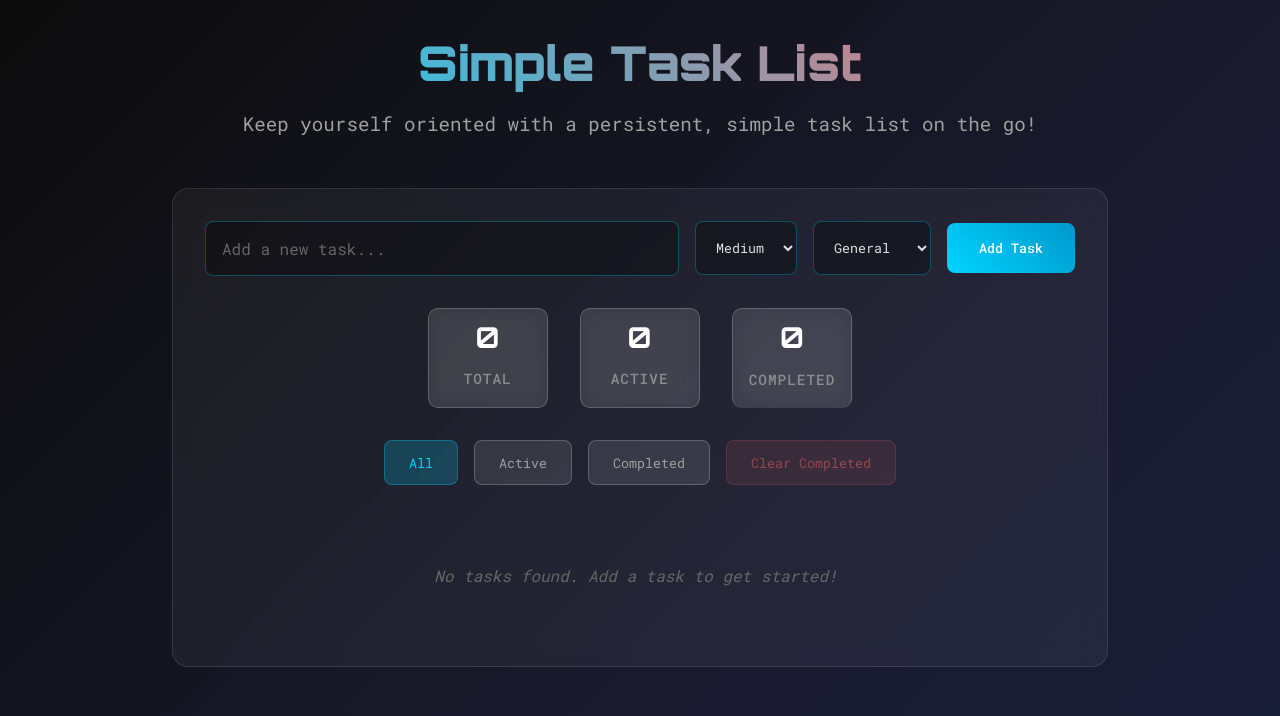
TaskList › Task Filtering › shows all tasks by default
The width and height of the screenshot is (1280, 716).
Type "Completed task" into the field with placeholder "Add a new task...". click: (442, 248)
box: [205,221,679,276]
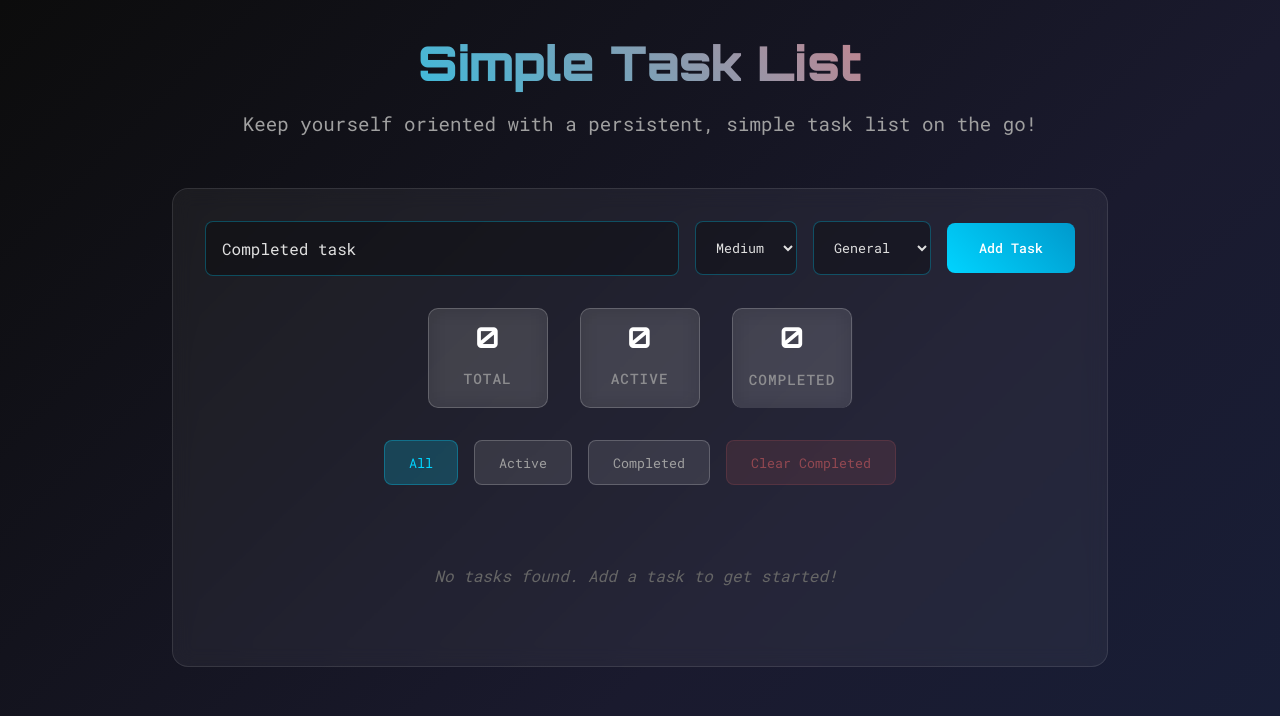
Click the button "Add Task". click: (1011, 248)
box: [947,223,1075,273]
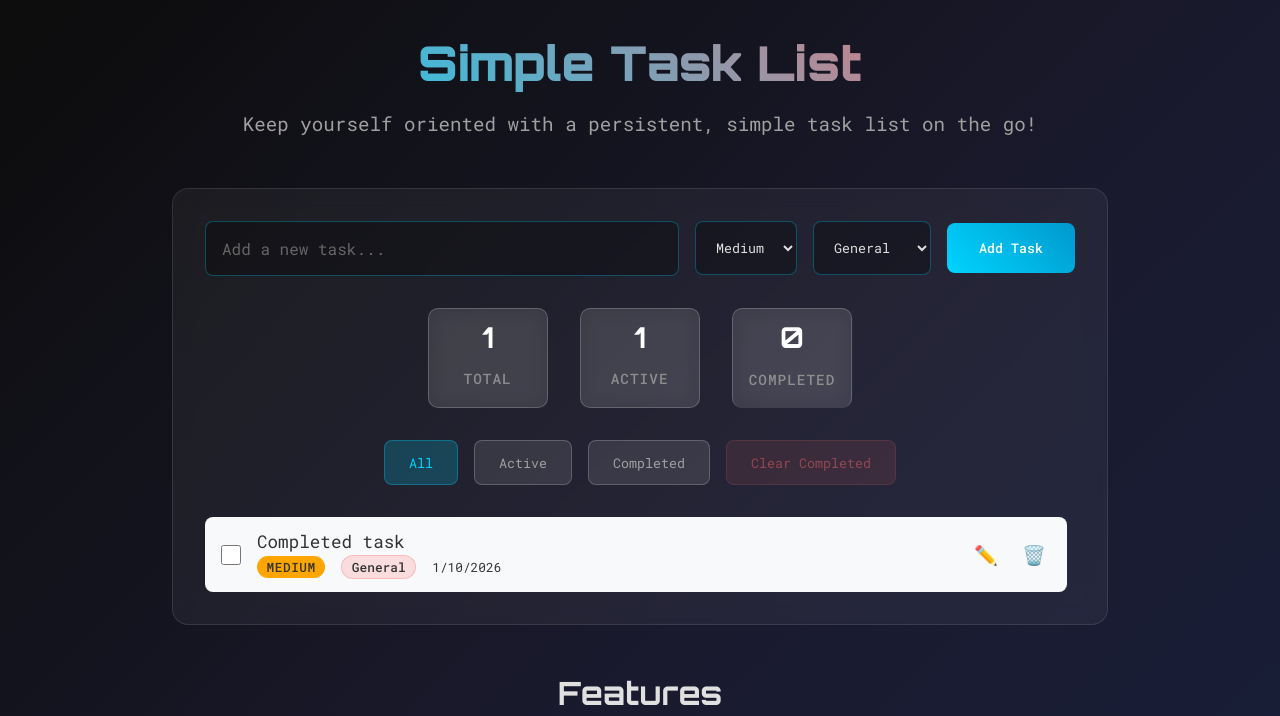
Click the checkbox. click: (231, 555)
box: [221,545,241,565]
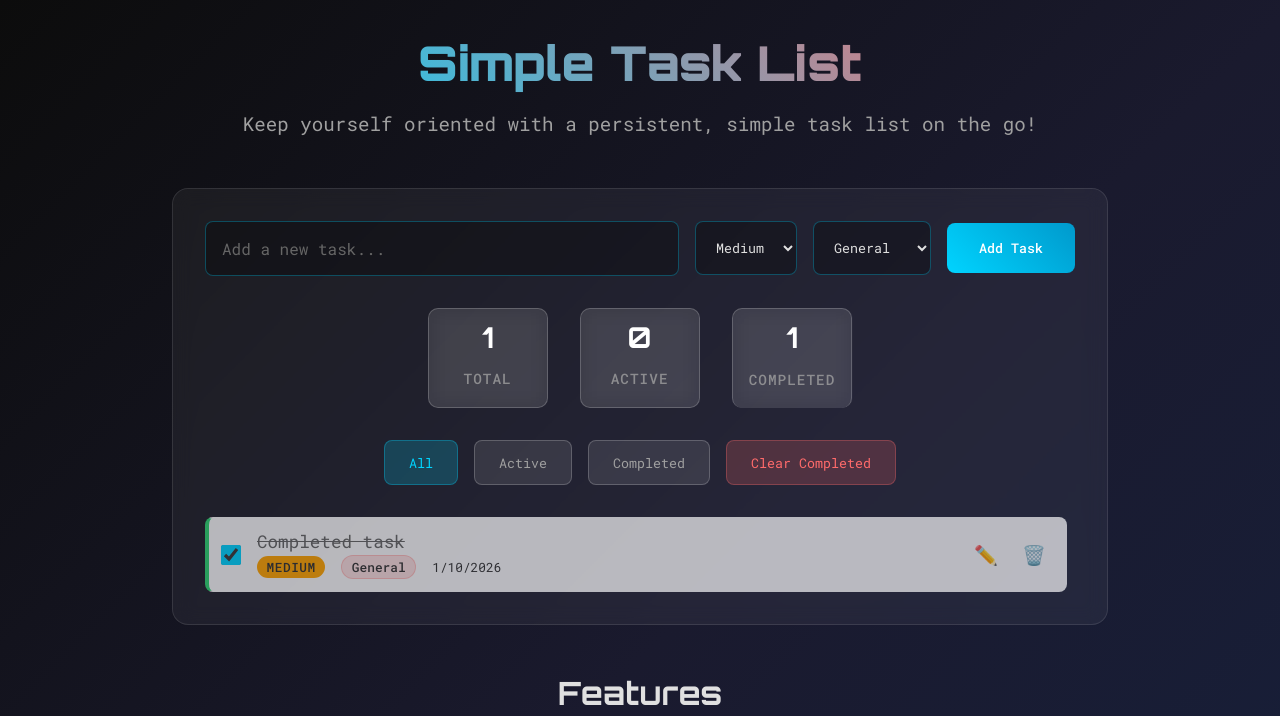
Type "Active task" into the field with placeholder "Add a new task...". click: (442, 248)
box: [205,221,679,276]
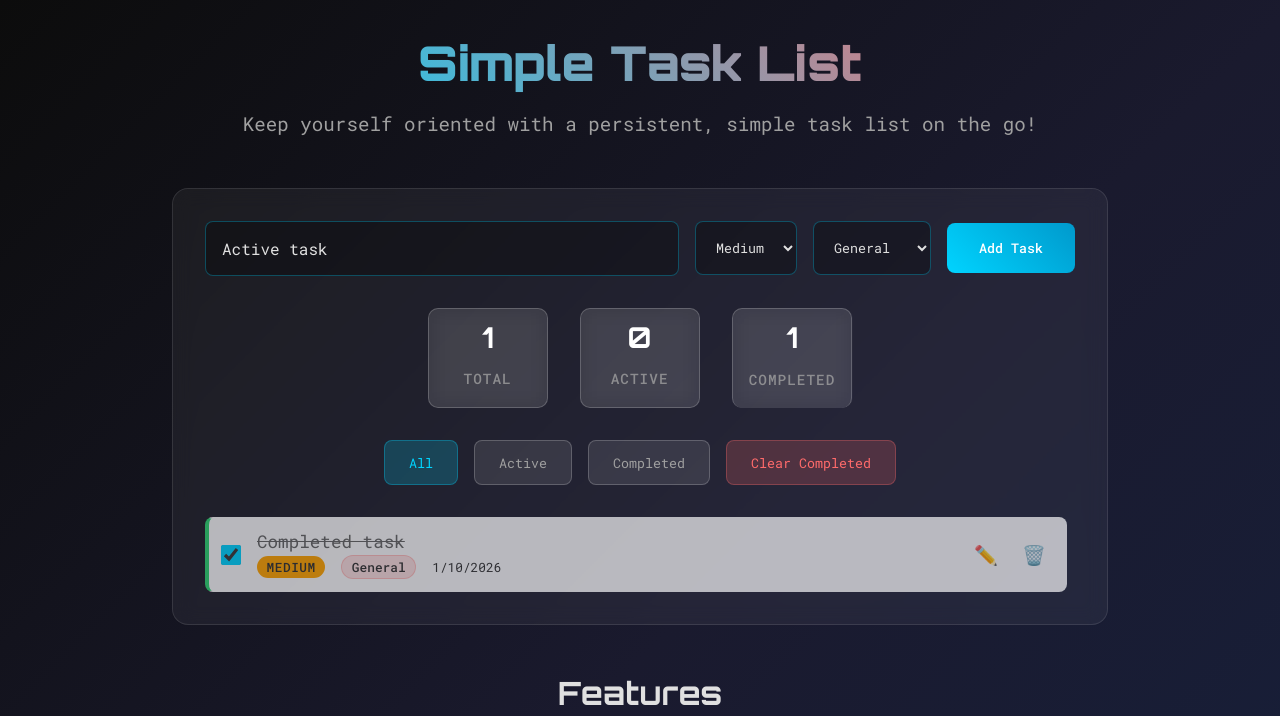
Click the button "Add Task". click: (1011, 248)
box: [947,223,1075,273]
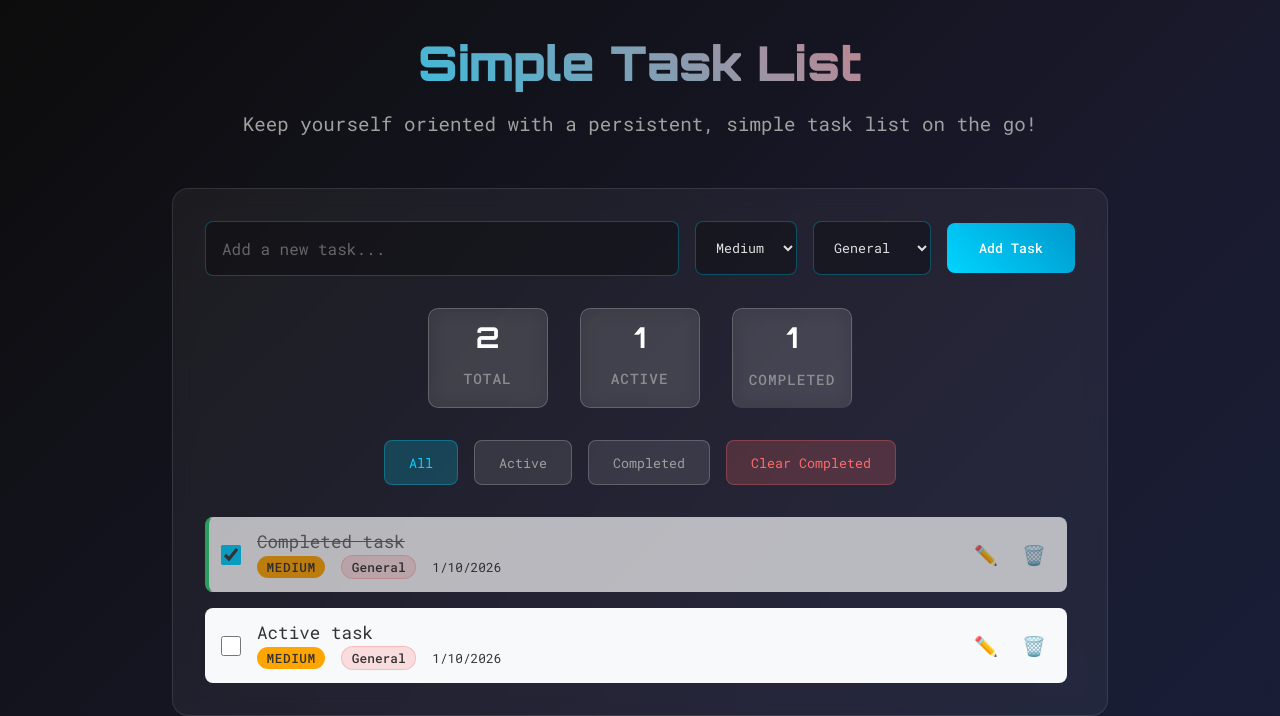
Expected: the text "Completed task" is shown, [257,530,405,553]
Expected: the text "Active task" is shown, [257,621,373,644]
